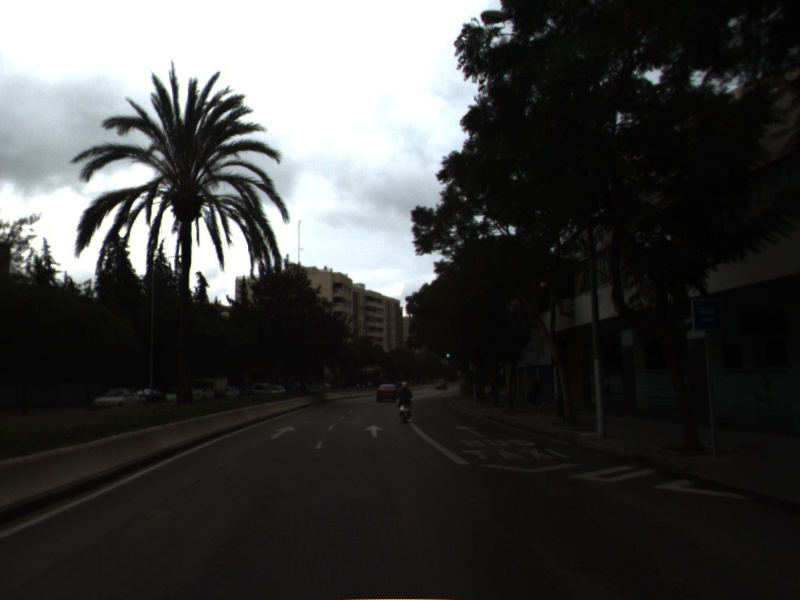STRAIGHT: (268, 423, 298, 441), (454, 423, 487, 439), (362, 423, 386, 439)
